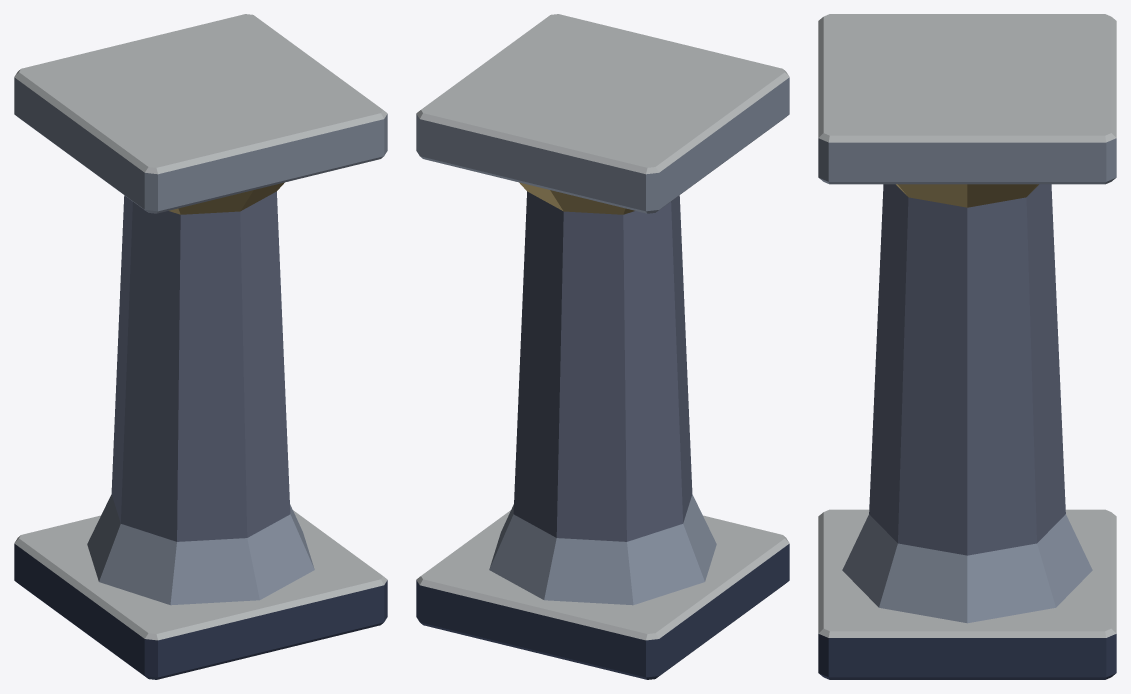
The model's file is pillar-small.glb.
3 views of the same model, side by side, from view 1: azimuth 30°, elevation 25°; view 2: azimuth 150°, elevation 25°; view 3: azimuth 270°, elevation 25° (orthographic). The views are drawn at different scales.
Parts seen in each view (by area): view 1: pillar-small__body; view 2: pillar-small__body; view 3: pillar-small__body.
Boxes of the visible parts, <box> form: pillar-small__body: <box>14,14,387,679</box>; pillar-small__body: <box>416,14,789,679</box>; pillar-small__body: <box>818,14,1116,679</box>.
Size of the model in its own units: 0.72 by 1.45 by 0.72.
